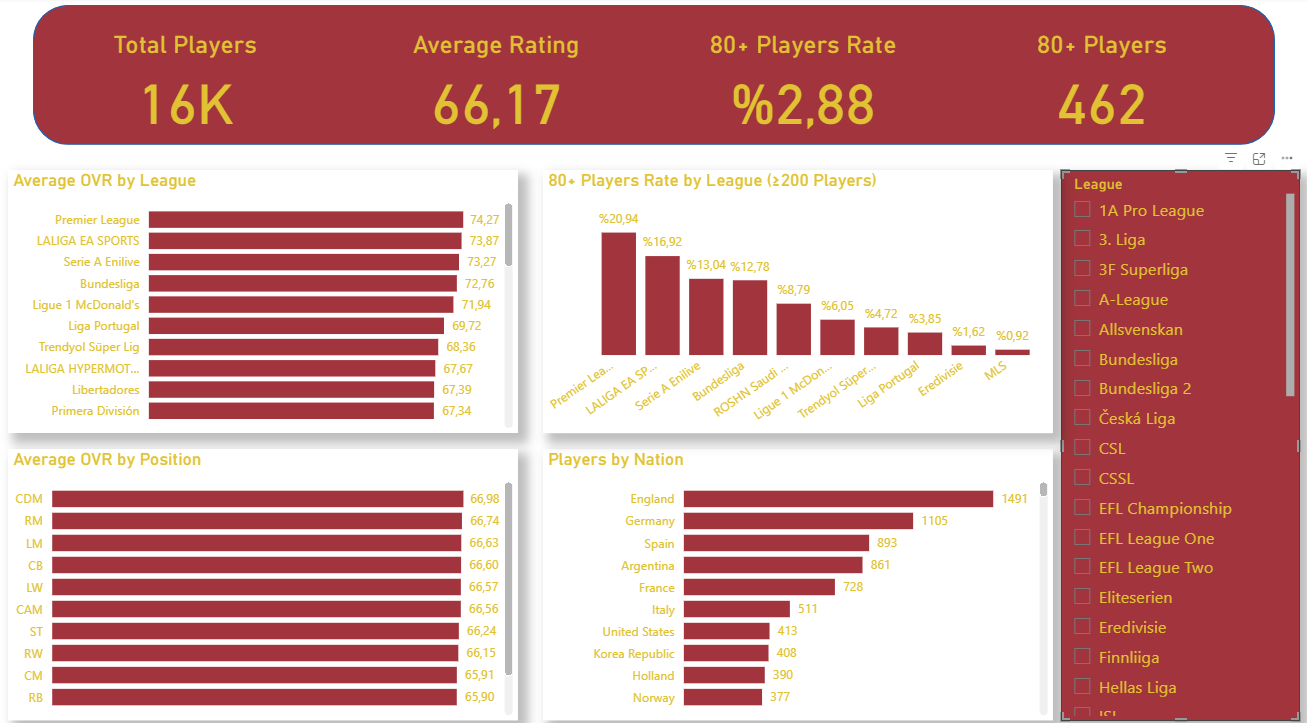

The page's visual inventory and layout, read from the dashboard file:
{"tool":"powerbi","page":{"name":"Page 1","canvas":[1280,720],"ordinal":0},"visuals":[{"type":"shape","box":[32,8,1208,136],"z":0,"group":"g1"},{"type":"card","title":"Average Rating","fields":{"Values":["male_players.Avg OVR"]},"box":[370.7,32,224,104],"z":1000,"group":"g1"},{"type":"clusteredBarChart","title":"Players by Nation","fields":{"Category":["male_players.Nation"],"Y":["CountNonNull(male_players.Nation)"]},"box":[528,440,496,264],"z":1000},{"type":"card","title":"Total Players","fields":{"Values":["male_players.Player Count"]},"box":[64,32,232,104],"z":2000,"group":"g1"},{"type":"clusteredBarChart","title":"Average OVR by League","fields":{"Category":["male_players.League"],"Y":["Avg(male_players.OVR)"]},"box":[8,168,496,256],"z":2000},{"type":"card","title":"80+ Players","fields":{"Values":["male_players.High OVR Players"]},"box":[968,32,208,104],"z":3000,"group":"g1"},{"type":"clusteredBarChart","title":"Average OVR by Position","fields":{"Category":["male_players.Position"],"Y":["Avg(male_players.OVR)"]},"box":[8,440,496,264],"z":3000},{"type":"card","title":"80+ Players Rate","fields":{"Values":["male_players.High OVR Rate"]},"box":[669.3,32,224,104],"z":4000,"group":"g1"},{"type":"slicer","fields":{"Values":["male_players.League"]},"box":[1032,168,232,536],"z":6000},{"type":"clusteredColumnChart","title":"80+ Players Rate by League (≥200 Players)","fields":{"Y":["male_players.High OVR Rate"],"Category":["male_players.League"]},"box":[528,168,496,256],"z":9000},{"type":"group","id":"g1","title":"Group 1","box":[32,8,1216,136],"z":9001}]}

Visuals, with their boxes in screenshot pixels (x1, y1, x2, y2), scaled from the page's 1280x720 canvas onto the 1307x723 screenshot:
shape: 33:8:1266:145
"Average Rating" card: 379:32:607:137
"Players by Nation" clusteredBarChart: 539:442:1046:707
"Total Players" card: 65:32:302:137
"Average OVR by League" clusteredBarChart: 8:169:515:426
"80+ Players" card: 988:32:1201:137
"Average OVR by Position" clusteredBarChart: 8:442:515:707
"80+ Players Rate" card: 683:32:912:137
slicer - male_players.League: 1054:169:1291:707
"80+ Players Rate by League (≥200 Players)" clusteredColumnChart: 539:169:1046:426
"Group 1" group: 33:8:1274:145
